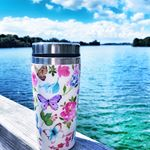cups: (29, 40, 83, 150)
